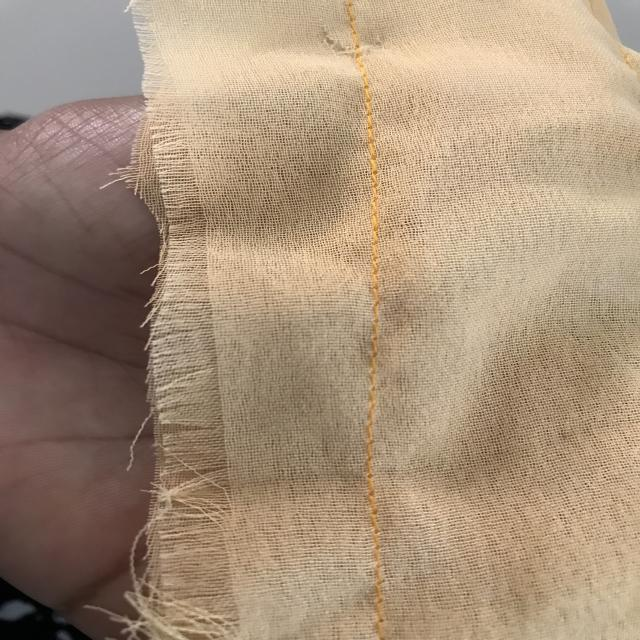good: (352, 358, 401, 449)
